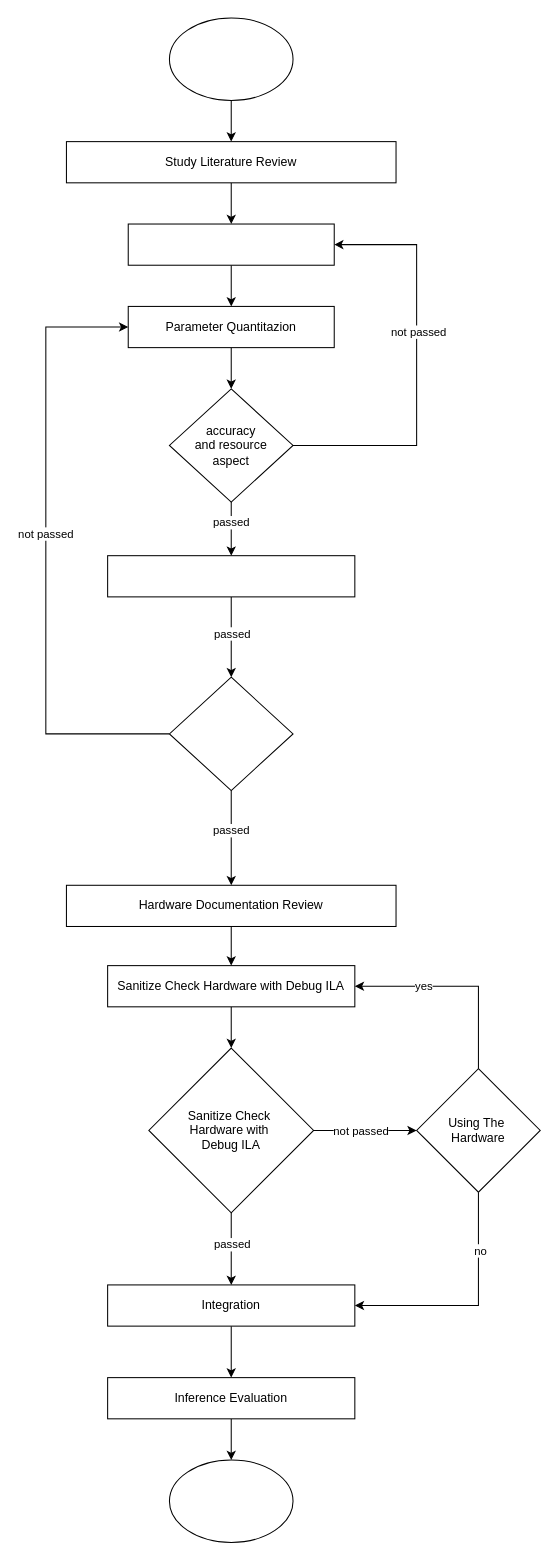
The diagram is 558 pixels wide and 1560 high, and some of its shapes have lost their labels. The box of each missing label's shape, as (x1, y1, x2, y2) in pixels:
bit different check: (168, 676, 293, 791)
Finish: (168, 1459, 293, 1542)
Model Development in Python: (127, 223, 334, 265)
Model Development in Verilog: (107, 555, 355, 597)
Start: (168, 17, 293, 100)
